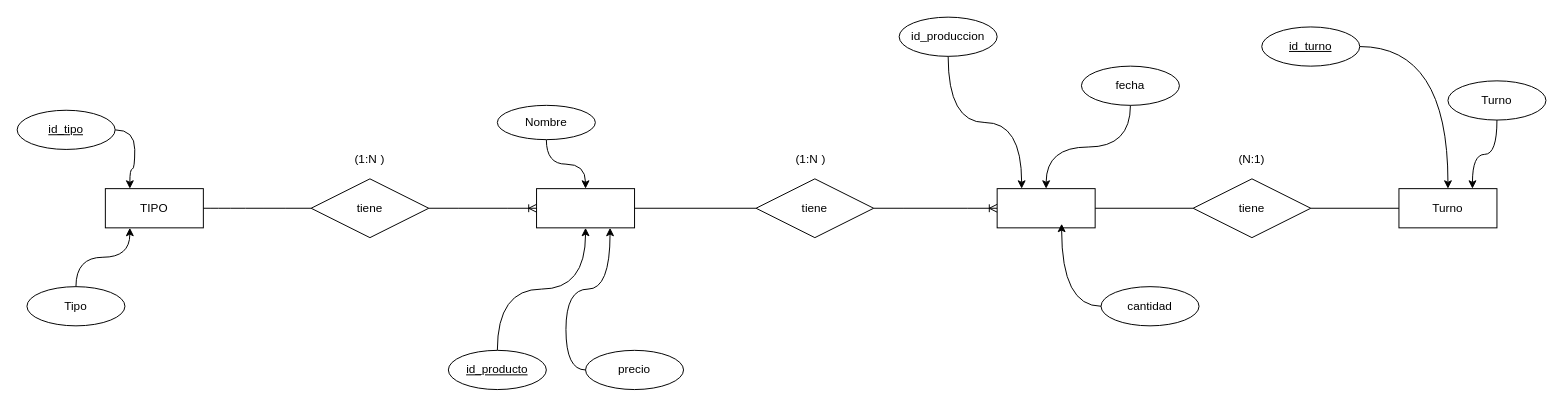
The diagram is 1563 pixels wide and 407 high, and some of its shapes have lost their labels. The shapes that lost their labels are listed below. From the top down, each one's box as (x1, y1, x2, y2) in pixels, then its label:
(536, 188, 635, 228): PRODUCTO
(996, 188, 1095, 228): PRODUCCION
